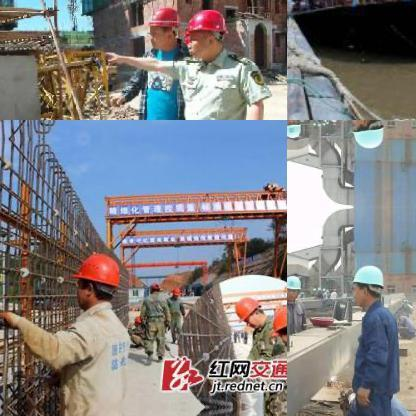Helmet: (70, 250, 126, 308), (186, 6, 228, 58), (141, 4, 181, 50), (348, 260, 386, 306), (347, 120, 388, 151), (232, 293, 266, 327), (266, 301, 286, 350), (287, 272, 301, 299), (287, 120, 303, 140), (170, 285, 180, 299)
